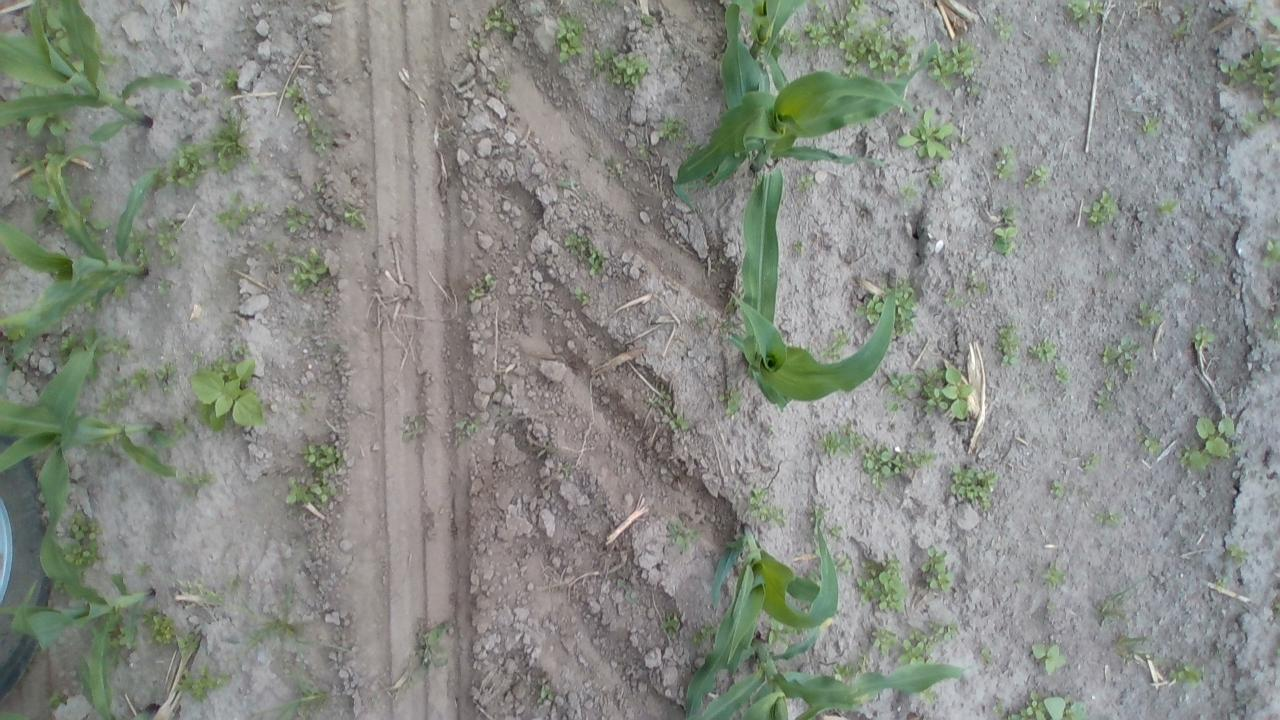Maize: (674, 3, 942, 213), (2, 411, 155, 720), (0, 146, 155, 400), (684, 516, 838, 720), (0, 0, 196, 142), (698, 626, 982, 719), (2, 336, 177, 480), (728, 274, 894, 414), (749, 0, 806, 68), (129, 702, 158, 720), (1, 713, 32, 720)
Weeds: (802, 0, 914, 74), (188, 346, 266, 433), (246, 584, 309, 656), (279, 440, 339, 509), (861, 444, 938, 497), (1180, 415, 1242, 470), (1219, 42, 1280, 96), (853, 556, 908, 614), (994, 688, 1090, 720), (270, 674, 336, 720), (923, 364, 974, 421), (208, 119, 257, 175), (899, 107, 950, 158), (897, 622, 956, 666), (61, 505, 100, 570), (930, 40, 980, 88), (948, 463, 998, 510), (215, 188, 266, 234), (148, 148, 206, 186), (287, 248, 329, 297), (174, 668, 232, 701), (565, 232, 607, 274), (920, 545, 953, 597), (1103, 333, 1143, 374), (415, 622, 450, 668), (608, 54, 654, 88), (748, 488, 787, 528), (1096, 580, 1135, 620), (175, 581, 221, 612), (824, 423, 863, 459), (156, 222, 186, 268), (284, 82, 316, 124), (556, 14, 584, 62), (96, 380, 132, 417), (1031, 642, 1070, 676), (894, 280, 918, 335), (77, 192, 109, 231), (1066, 0, 1105, 32), (143, 608, 174, 648), (1084, 186, 1116, 224), (989, 144, 1020, 182), (996, 320, 1020, 366), (27, 114, 72, 138), (1132, 302, 1168, 332), (182, 468, 215, 500), (869, 626, 896, 660), (666, 520, 701, 546), (886, 369, 917, 398), (1170, 659, 1204, 685), (1115, 634, 1146, 662), (310, 124, 334, 160), (856, 293, 883, 325), (153, 361, 180, 392), (720, 388, 746, 418), (822, 333, 848, 363), (990, 226, 1016, 256), (1028, 336, 1057, 362), (468, 274, 494, 302), (342, 204, 368, 232), (108, 335, 136, 360), (284, 207, 308, 234), (32, 158, 48, 198), (1193, 324, 1218, 349), (990, 14, 1014, 40), (1026, 164, 1054, 186), (456, 414, 481, 438), (482, 3, 504, 30), (1044, 562, 1068, 586), (1140, 430, 1164, 454), (834, 660, 858, 682), (1226, 544, 1250, 566), (1038, 48, 1062, 70), (1259, 98, 1280, 123), (648, 385, 672, 406), (130, 370, 151, 394), (768, 622, 789, 646), (1262, 236, 1278, 267), (834, 552, 854, 576), (1080, 450, 1100, 474), (782, 28, 799, 56), (176, 631, 198, 652), (659, 121, 686, 138), (536, 679, 555, 703), (980, 642, 999, 666), (222, 67, 242, 89), (1093, 390, 1115, 410), (692, 627, 710, 651), (1050, 478, 1068, 502), (1155, 198, 1179, 216), (1173, 18, 1189, 45), (112, 624, 126, 654), (660, 614, 680, 635), (58, 331, 78, 351), (1200, 250, 1222, 268), (1098, 512, 1122, 528), (48, 690, 67, 710), (1242, 0, 1261, 19), (1265, 318, 1280, 342), (974, 280, 992, 300), (590, 42, 602, 72), (1247, 108, 1263, 130), (791, 241, 810, 259), (1138, 115, 1160, 130), (1054, 367, 1071, 386), (556, 176, 578, 190), (902, 186, 924, 200), (924, 170, 946, 184), (798, 176, 814, 195), (136, 563, 156, 578), (504, 23, 521, 40), (943, 296, 967, 308), (636, 144, 652, 162), (829, 525, 848, 540), (172, 419, 186, 439), (958, 127, 972, 146), (156, 277, 170, 296), (686, 138, 700, 156), (918, 690, 936, 704), (466, 37, 484, 51), (1000, 204, 1014, 222), (1265, 15, 1280, 31), (580, 292, 594, 307), (672, 416, 688, 429), (232, 574, 242, 594), (497, 80, 511, 93), (1106, 380, 1118, 392), (1184, 271, 1194, 284), (264, 242, 273, 256), (1044, 288, 1056, 298), (1218, 578, 1229, 588), (890, 403, 900, 412), (640, 14, 650, 22), (604, 0, 616, 6), (592, 0, 602, 6)
